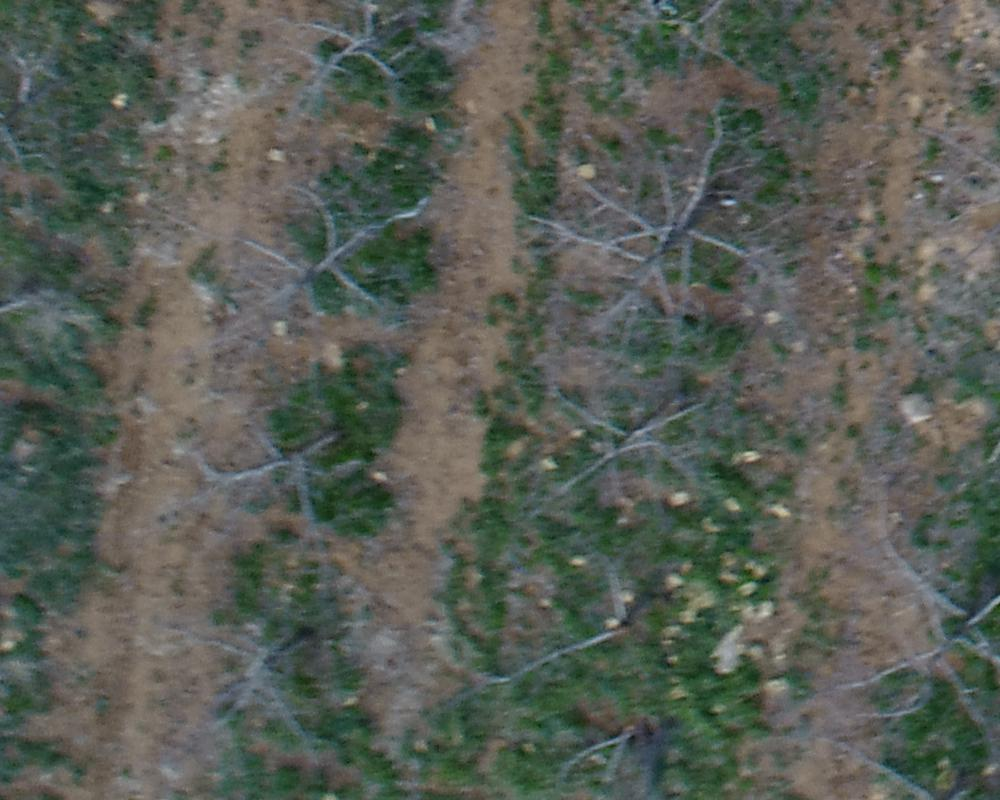apple: (527, 97, 805, 333), (198, 160, 484, 338), (520, 369, 761, 531), (179, 408, 396, 563), (852, 524, 990, 742), (236, 10, 470, 128), (175, 613, 355, 747), (509, 685, 729, 790), (10, 67, 137, 215), (10, 258, 132, 410)
